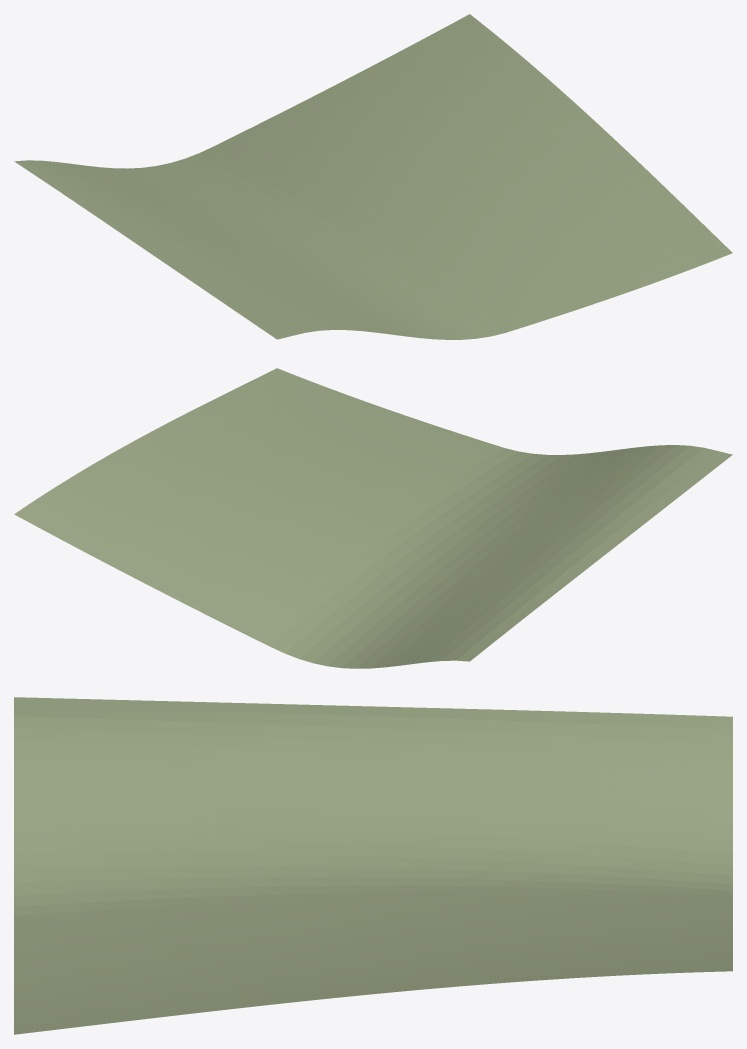
The model's file is alpine-3-7.glb.
The picture shows the model from 3 angles, top to bottom: view 1: azimuth 30°, elevation 25°; view 2: azimuth 150°, elevation 25°; view 3: azimuth 270°, elevation 25°; orthographic projection. The views are drawn at different scales.
Parts seen in each view (by area): view 1: alpine-3-7; view 2: alpine-3-7; view 3: alpine-3-7.
Boxes of the visible parts, x1,y1,x2,y2 form: alpine-3-7: (14, 14, 732, 339); alpine-3-7: (14, 368, 732, 668); alpine-3-7: (14, 697, 732, 1034).
Size of the model in its own units: 256 by 40.75 by 256.
